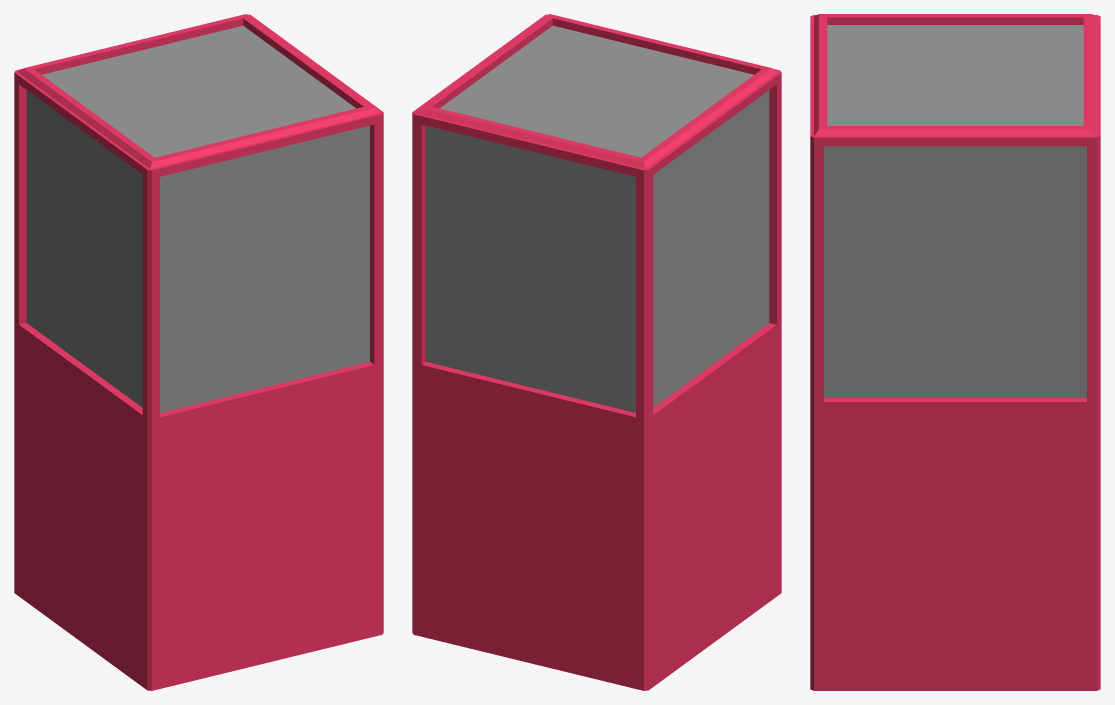
The model's file is display1.fbx.
3 views of the same model, side by side, from view 1: azimuth 30°, elevation 25°; view 2: azimuth 150°, elevation 25°; view 3: azimuth 270°, elevation 25° (orthographic). The views are drawn at different scales.
Parts seen in each view (by area): view 1: Cube; view 2: Cube; view 3: Cube.
Part boxes in pixels (x1,y1,x2,y2): Cube: (14, 14, 383, 690); Cube: (412, 14, 781, 690); Cube: (810, 14, 1100, 690).
Size of the model in its own units: 144 by 305 by 144.
